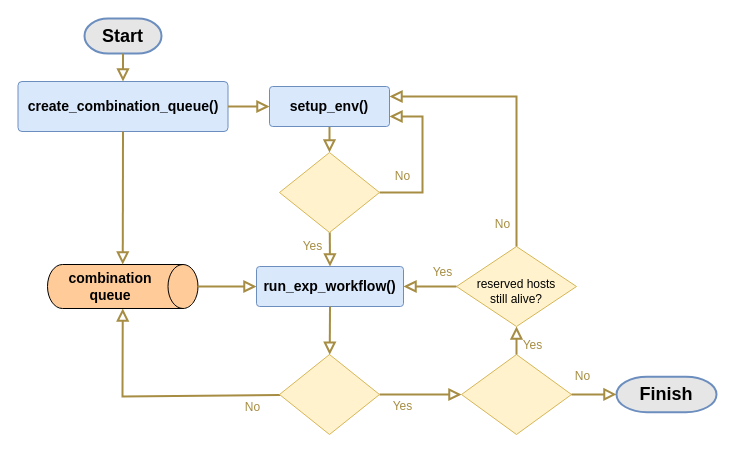
The diagram is 734 pixels wide and 452 high, and some of its shapes have lost their labels. Each missing label, with the centre of its shape:
run successfully?: pixel 329 394
setup successfully?: pixel 329 192
still has combination?: pixel 516 394
